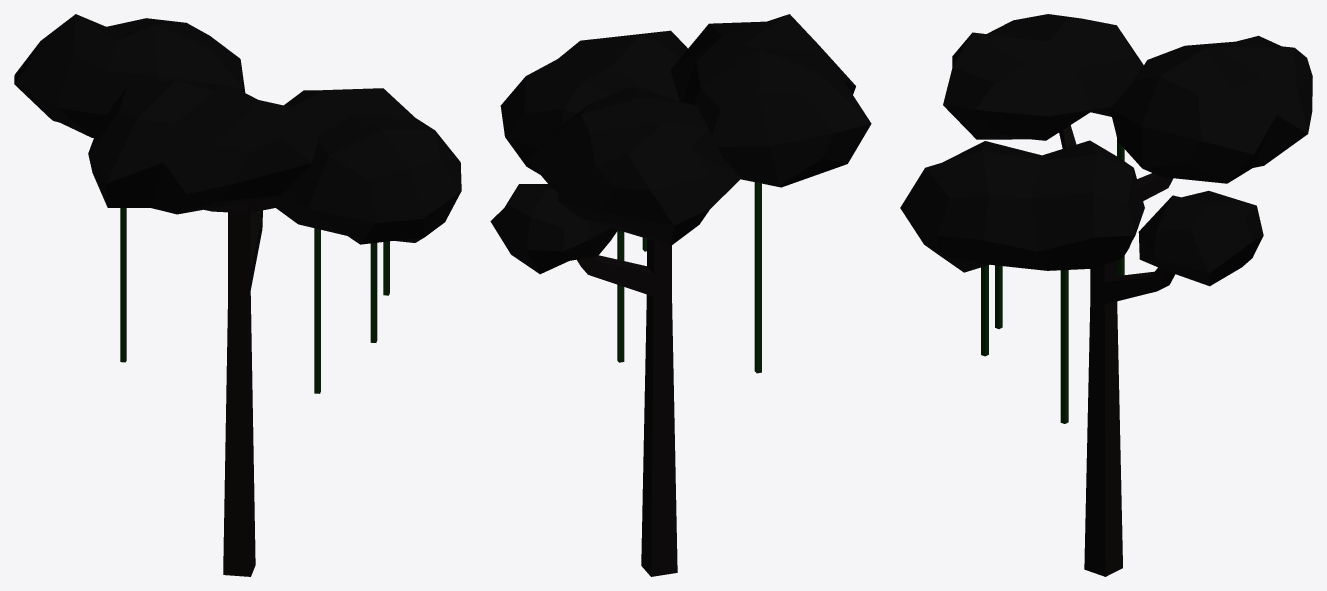
File: ArbreBlocking.fbx
3 views of the same model, side by side, from view 1: azimuth 30°, elevation 25°; view 2: azimuth 150°, elevation 25°; view 3: azimuth 270°, elevation 25° (orthographic). The views are drawn at different scales.
Parts seen in each view (by area): view 1: ArbreBlocking_1; view 2: ArbreBlocking_1; view 3: ArbreBlocking_1.
Part boxes in pixels (box(x1,y1,x2,y2)): ArbreBlocking_1: box(14, 14, 461, 576); ArbreBlocking_1: box(490, 14, 871, 576); ArbreBlocking_1: box(900, 14, 1312, 576).
Bounding box in the file's own units: 1373 × 2052 × 1500.
